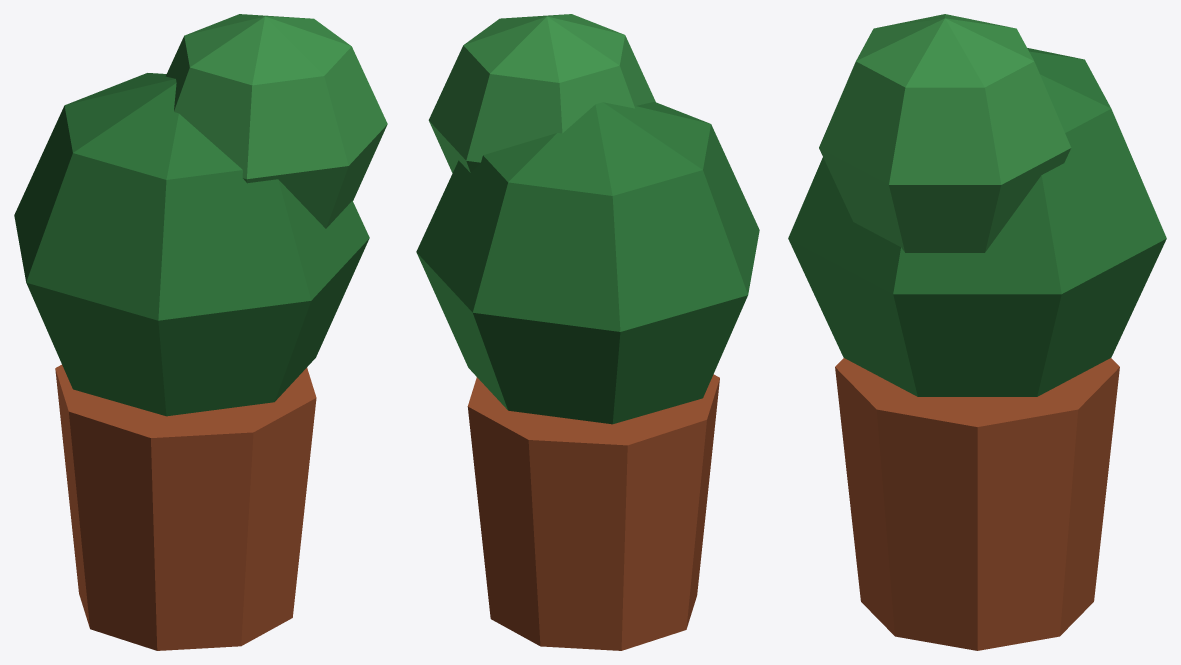
File: plant.glb
The picture shows the model from 3 angles, left to right: view 1: azimuth 30°, elevation 25°; view 2: azimuth 150°, elevation 25°; view 3: azimuth 270°, elevation 25°; orthographic projection. The views are drawn at different scales.
Visible parts, largest first — view 1: plant-2f7a3b, plant-a0522d, plant-3d9149; view 2: plant-2f7a3b, plant-a0522d, plant-3d9149; view 3: plant-a0522d, plant-2f7a3b, plant-3d9149.
Part boxes in pixels (x1,y1,x2,y2): plant-2f7a3b: [14, 73, 369, 416]; plant-a0522d: [55, 364, 316, 650]; plant-3d9149: [165, 14, 387, 228]; plant-2f7a3b: [416, 101, 759, 424]; plant-a0522d: [467, 374, 719, 650]; plant-3d9149: [428, 14, 655, 172]; plant-a0522d: [835, 358, 1119, 650]; plant-2f7a3b: [788, 48, 1166, 396]; plant-3d9149: [819, 14, 1071, 252].
Size of the model in its own units: 0.6002 by 1.05 by 0.585.
